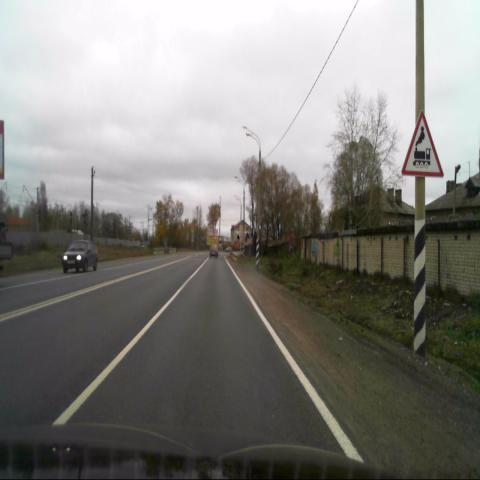1_2: (402, 111, 443, 177)
